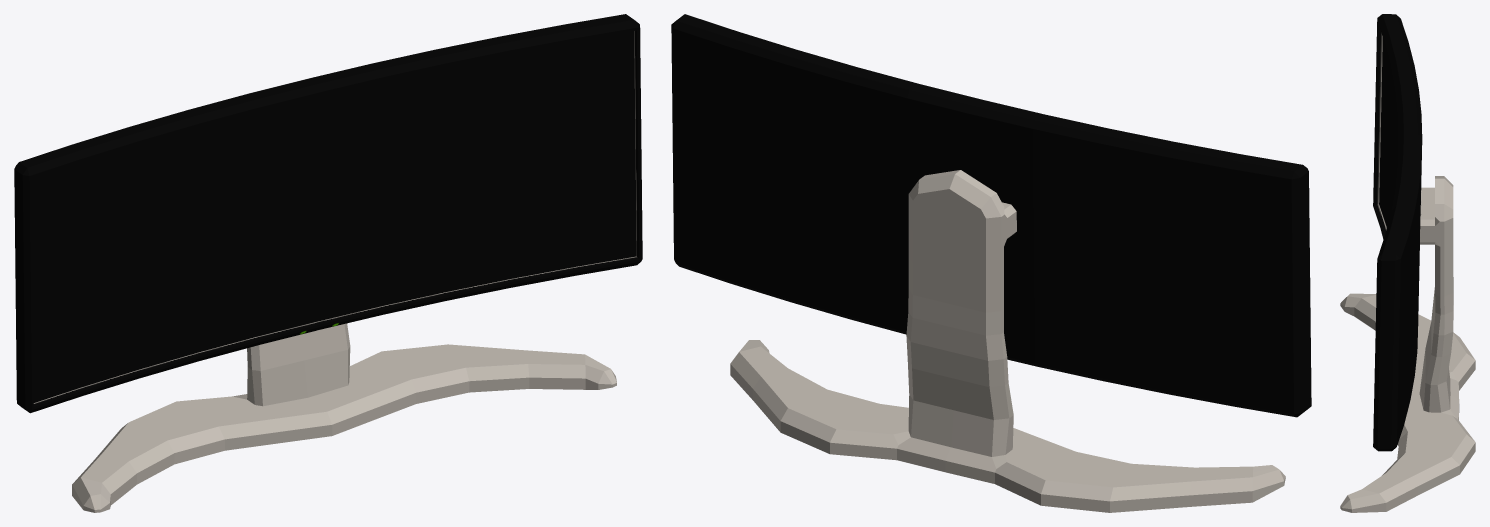
Rendered from Screen3.fbx.
The picture shows the model from 3 angles, left to right: view 1: azimuth 30°, elevation 25°; view 2: azimuth 150°, elevation 25°; view 3: azimuth 270°, elevation 25°; orthographic projection. The views are drawn at different scales.
Parts seen in each view (by area): view 1: Screen3Baked; view 2: Screen3Baked; view 3: Screen3Baked.
Part boxes in pixels (x1=…): Screen3Baked: x1=14, y1=14, x2=642, y2=512; Screen3Baked: x1=671, y1=14, x2=1311, y2=512; Screen3Baked: x1=1340, y1=14, x2=1475, y2=512.
Size of the model in its own units: 531 by 280 by 124.
